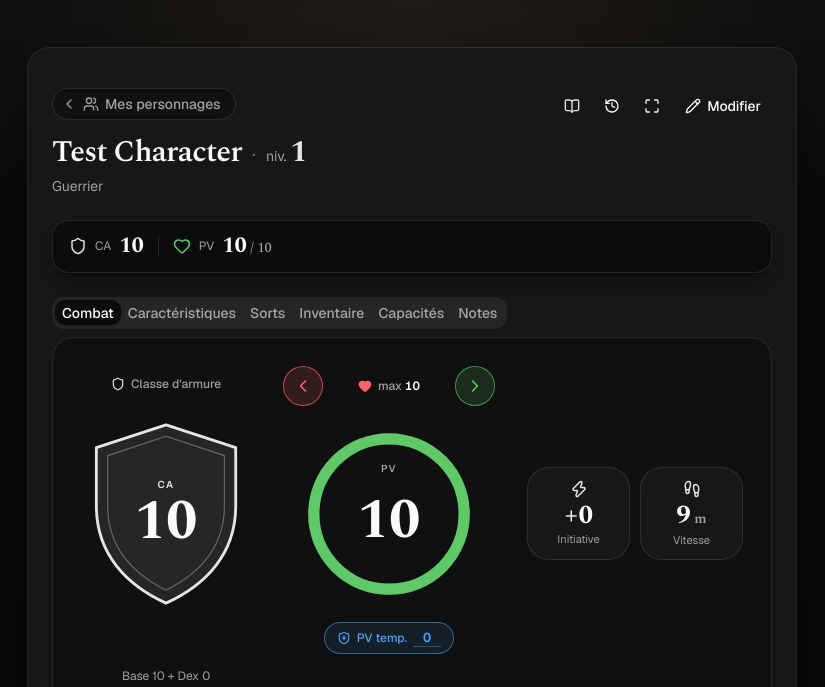
Test case: CharacterPlay › puts features with uses first, in the Capacités tab and in the combat HUD
This screenshot has width=825, height=687.
Check: the heading "Test Character" is shown, box left=52, top=134, right=242, bottom=170
Click the tab "Capacités" at (411, 313), box left=371, top=300, right=451, bottom=325
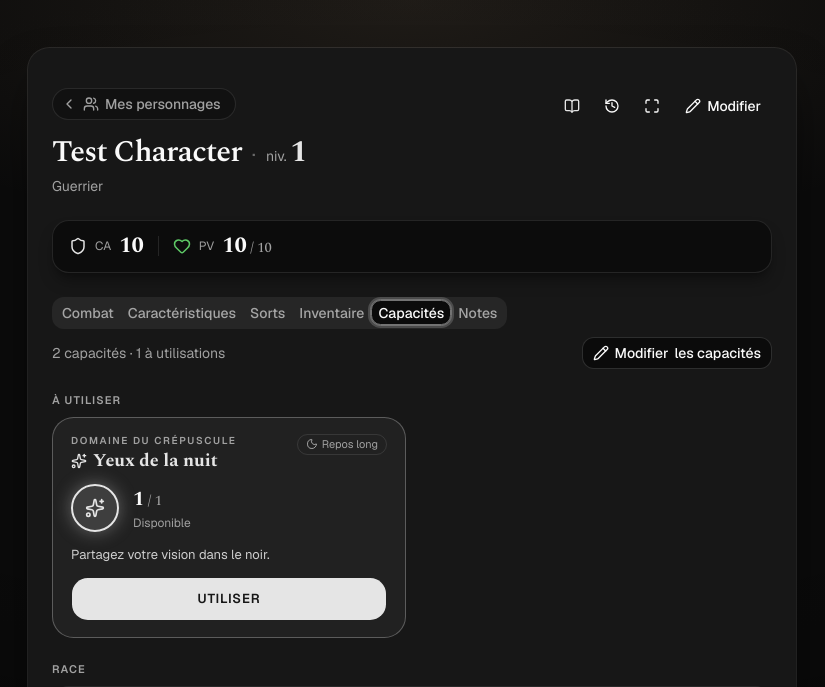
Check: the text "Repos long" is shown, box left=297, top=434, right=387, bottom=455
Check: the text "Partagez votre vision dans le noir." is shown, box left=71, top=546, right=270, bottom=563
Click the button with aria-label "Utiliser Yeux de la nuit" at (229, 599), box left=71, top=577, right=387, bottom=621
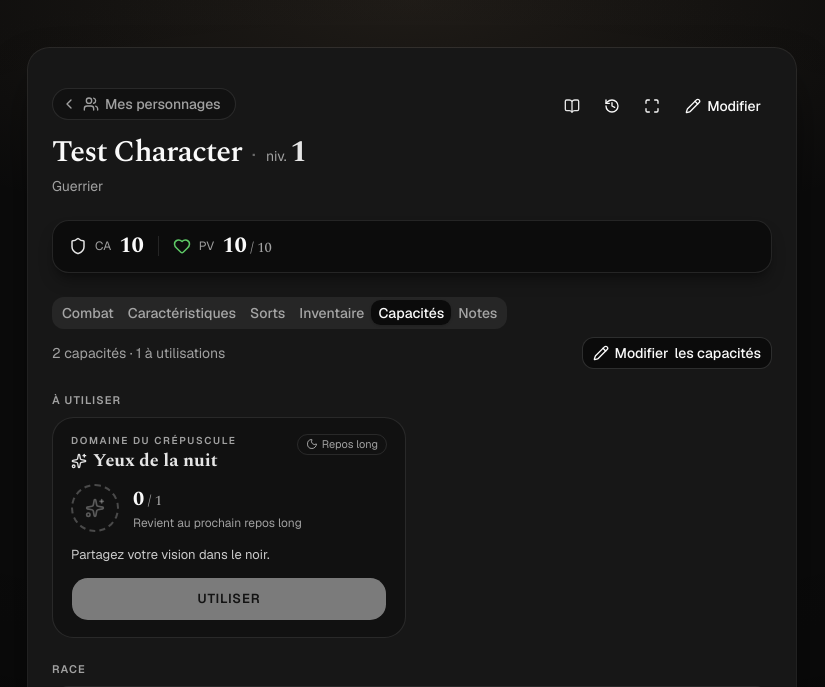
Check: the text "Revient au prochain repos long" is shown, box left=133, top=515, right=302, bottom=531
Check: the button with aria-label "Utiliser Yeux de la nuit" is disabled, box left=71, top=577, right=387, bottom=621
Click the button named "Récupérer : Yeux de la nuit" at (95, 508), box left=71, top=484, right=119, bottom=532
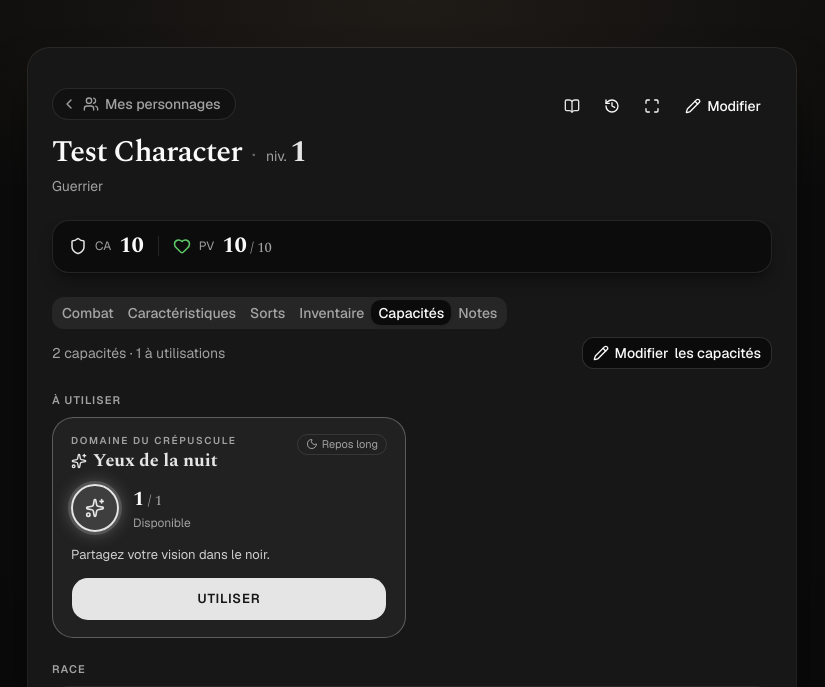
Check: the text "Disponible" is shown, box left=133, top=515, right=191, bottom=531
